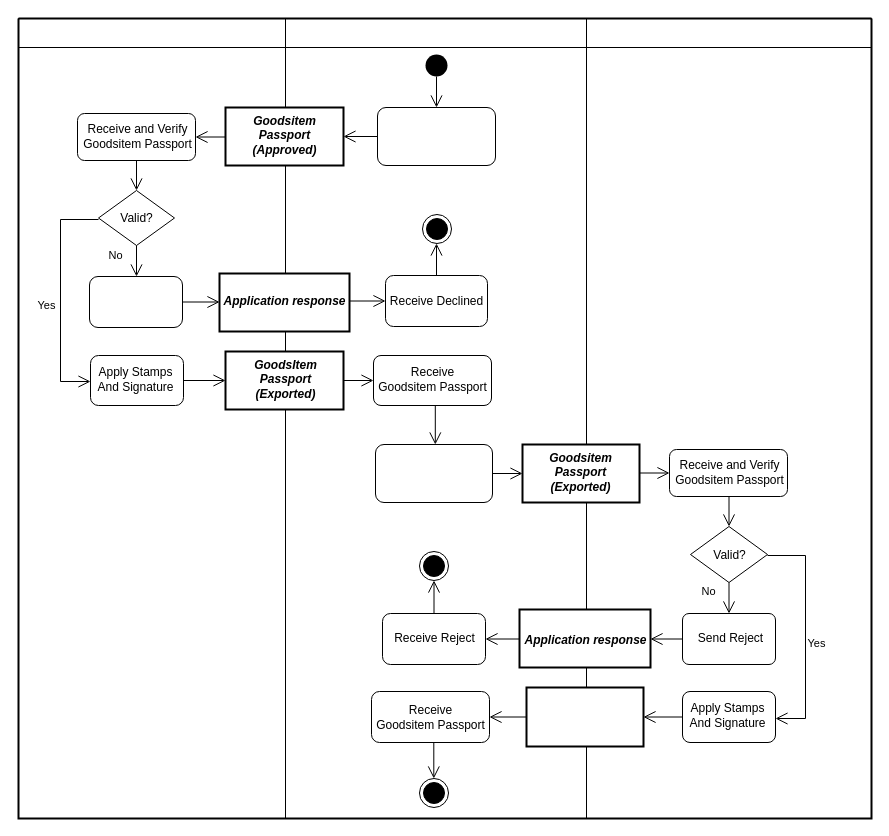
The diagram is 889 pixels wide and 836 high, and some of its shapes have lost their labels. The shapes that lost their labels are listed below. From the top down, each one's box as (x1, y1, x2, y2) in pixels, then its label:
(376, 106, 496, 166): Present Goods To Leave Country
(88, 276, 182, 328): Send Declined
(18, 18, 286, 818): Exporting Customs Party
(284, 18, 586, 818): Representative Party
(586, 18, 872, 818): Importing Customs Party
(374, 444, 492, 502): Present Goods To Enter Country
(525, 686, 644, 747): GoodsItem Passport (Imported)
